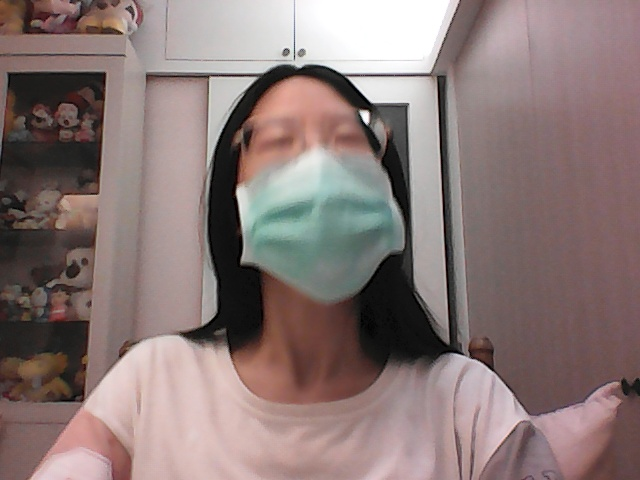Mask: (218, 140, 415, 305)
